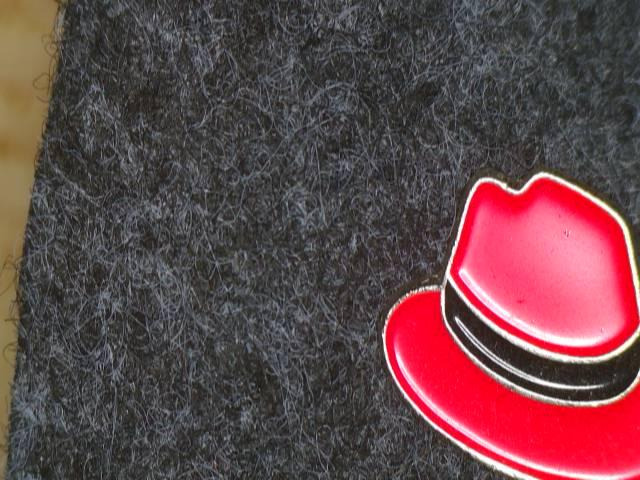Red-Hat: (368, 145, 640, 480)
